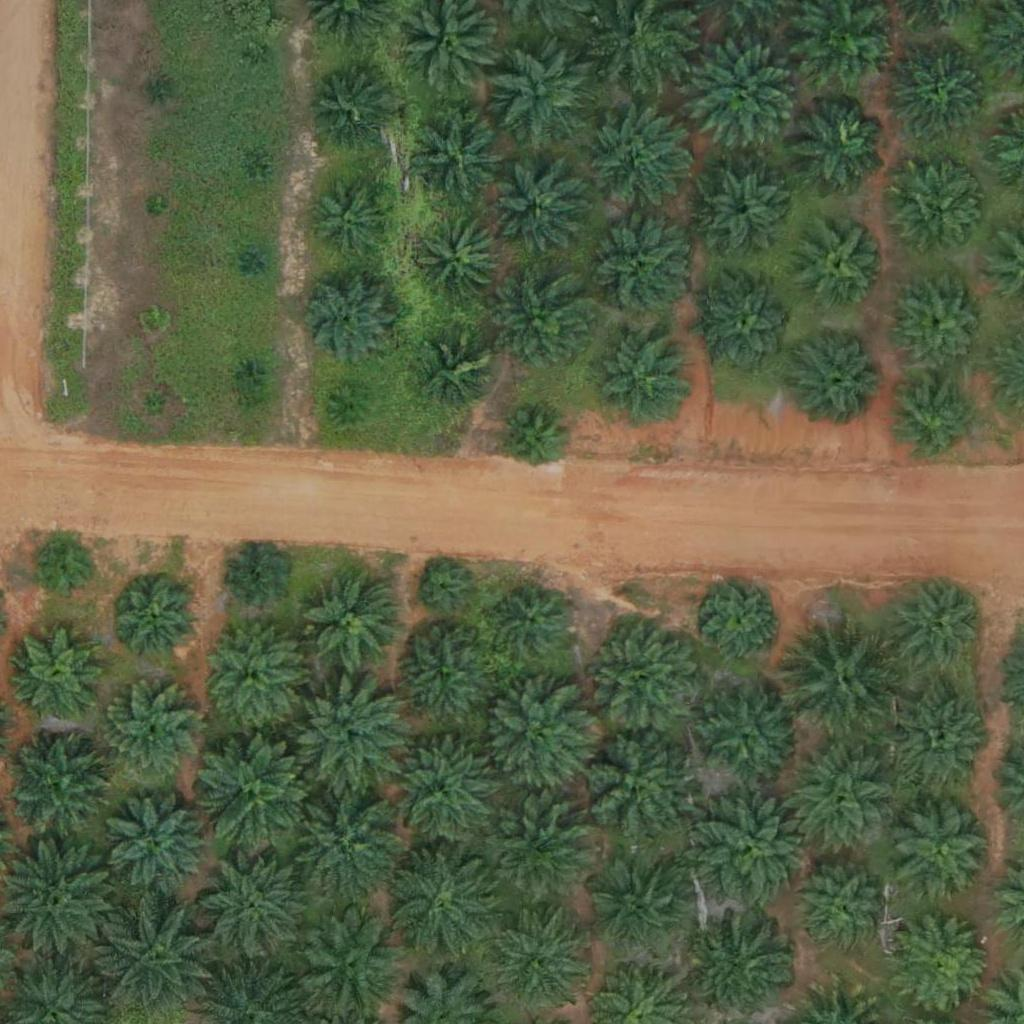Kelapa_Sawit: (195, 729, 320, 855), (278, 778, 403, 904), (383, 840, 508, 966), (583, 613, 708, 739), (571, 724, 696, 850), (691, 788, 816, 914), (782, 614, 907, 740), (778, 737, 903, 863), (379, 732, 504, 857), (685, 45, 798, 159), (3, 729, 116, 843), (292, 678, 405, 791), (293, 910, 406, 1023), (292, 263, 404, 376), (103, 790, 215, 903), (194, 847, 306, 960), (481, 681, 593, 794), (482, 793, 594, 906), (890, 39, 990, 140), (489, 44, 589, 145), (406, 105, 506, 206), (493, 272, 593, 373), (587, 217, 687, 318), (592, 327, 692, 428), (99, 683, 199, 784), (203, 624, 303, 725), (303, 572, 403, 673), (392, 626, 492, 727), (591, 860, 691, 961), (699, 916, 799, 1017), (787, 95, 887, 195), (587, 109, 687, 209), (698, 276, 798, 376), (790, 327, 890, 427), (892, 273, 992, 373), (697, 685, 797, 785), (887, 577, 987, 677), (891, 693, 991, 793), (891, 800, 991, 900), (893, 917, 993, 1017), (310, 174, 398, 263), (695, 168, 783, 256), (307, 66, 395, 154), (416, 218, 504, 306), (14, 628, 102, 716), (113, 577, 201, 665), (494, 916, 582, 1004), (895, 169, 982, 257), (496, 170, 583, 258), (798, 219, 885, 307), (892, 376, 979, 464), (799, 867, 886, 955), (704, 582, 779, 658), (423, 336, 498, 411), (495, 585, 570, 660), (502, 409, 565, 472), (225, 547, 288, 610), (35, 540, 97, 603), (420, 564, 470, 614), (332, 385, 370, 423), (248, 45, 273, 70), (242, 161, 267, 186), (148, 78, 173, 103), (144, 196, 169, 221), (140, 308, 165, 333), (143, 392, 168, 417), (243, 250, 268, 275), (236, 360, 261, 385)
